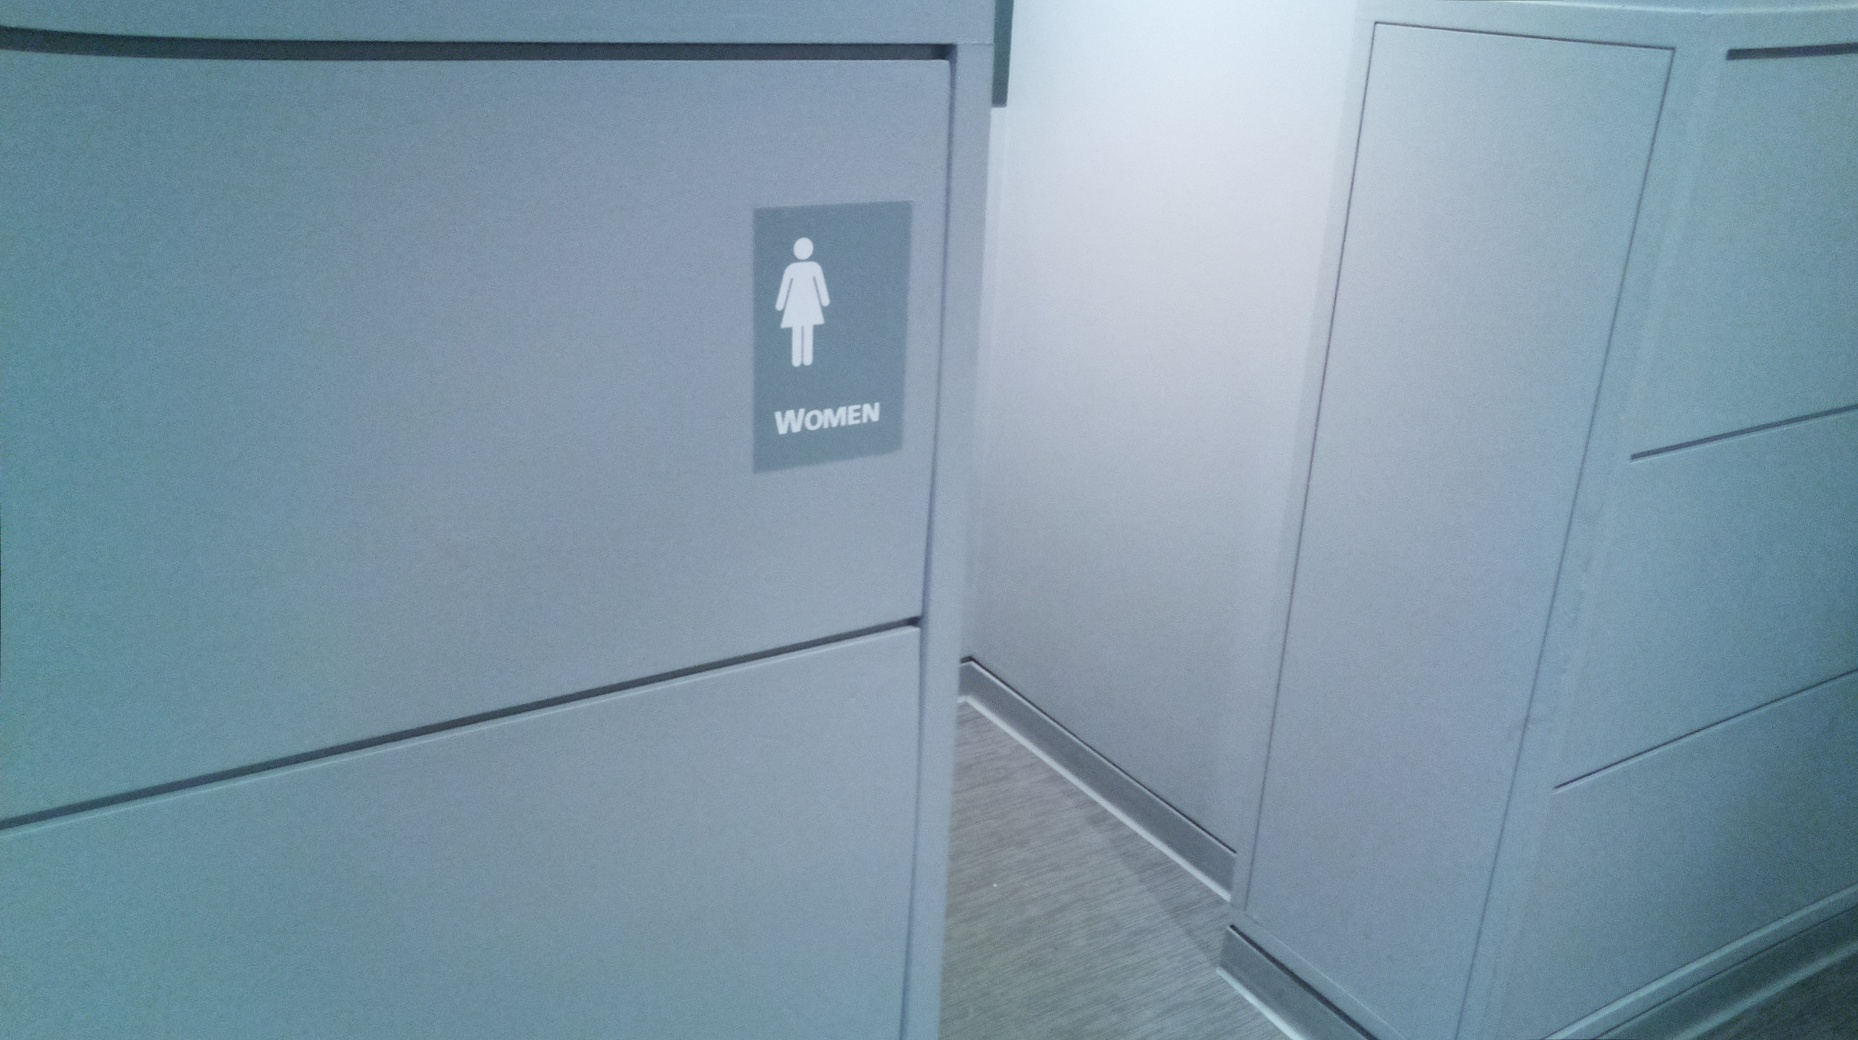bathroom sign: (747, 191, 921, 480)
